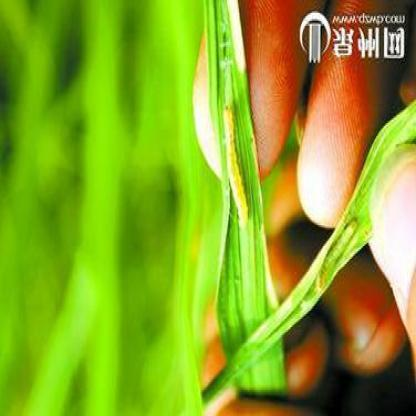leaf-folder: (210, 93, 258, 236), (309, 207, 360, 308)
